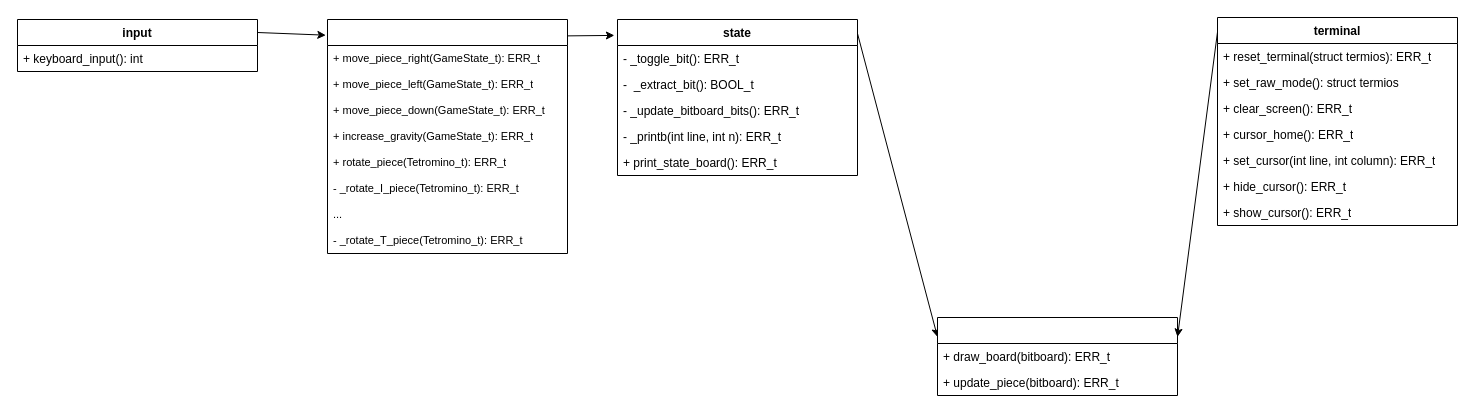
Image size: 1475x416. Some labels were removed from this diagram. Each missing label, with the box of its shape:
render: (936, 316, 1178, 396)
shape state: (326, 18, 568, 254)
